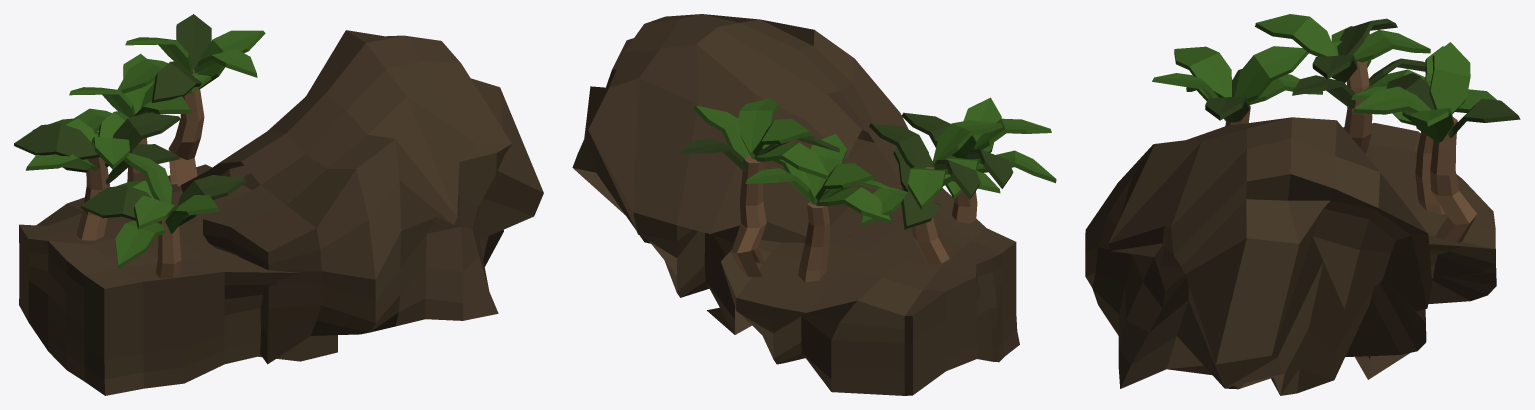
Rendered from Island2.fbx.
3 renders of one model, left to right at view 1: azimuth 30°, elevation 25°; view 2: azimuth 150°, elevation 25°; view 3: azimuth 270°, elevation 25°, orthographic. The views are drawn at different scales.
Parts seen in each view (by area): view 1: Cylinder.008; view 2: Cylinder.008; view 3: Cylinder.008.
Boxes of the visible parts, x1,y1,x2,y2 form: Cylinder.008: (14,14,543,395); Cylinder.008: (572,14,1056,395); Cylinder.008: (1085,14,1520,395).
Bounding box in the file's own units: 4846 × 2667 × 3634.
